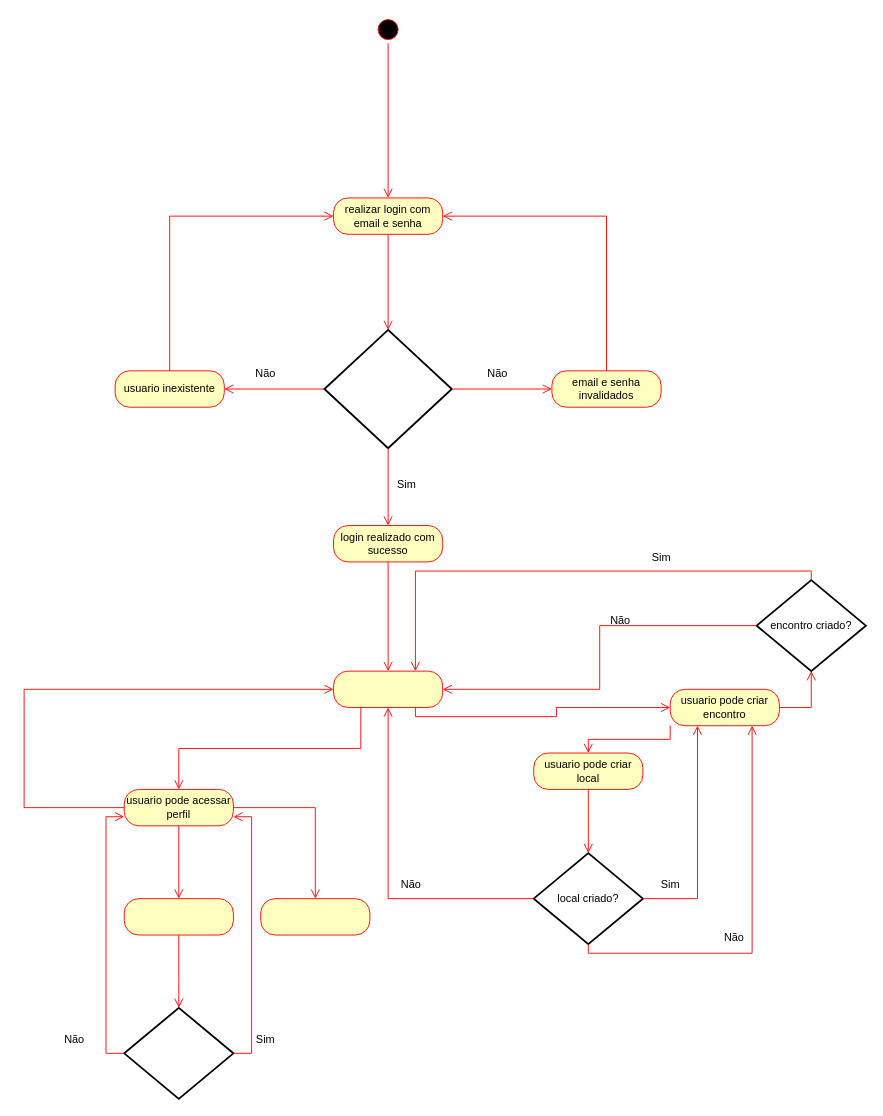
The diagram is 883 pixels wide and 1116 high, and some of its shapes have lost their labels. Each missing label, with the box of its shape:
email e senha estão validados?: (323, 329, 452, 449)
perfil atualizado?: (123, 1006, 234, 1099)
usuario pode atualizar perfil: (123, 898, 233, 935)
usuario pode ver histórico de partidas: (260, 898, 370, 935)
usuario pode visualizar tela principal: (333, 670, 443, 708)
